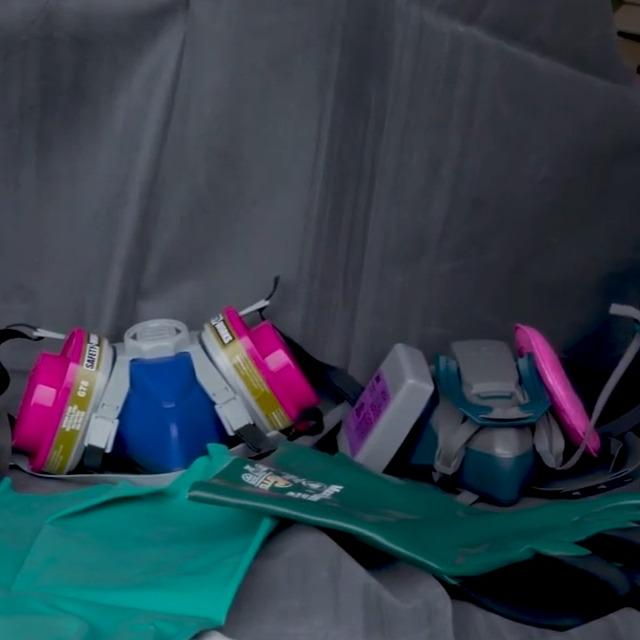Gloves: (190, 440, 640, 599), (0, 446, 278, 640), (0, 477, 189, 640), (354, 542, 640, 632)
Mask: (7, 304, 324, 475), (331, 319, 607, 504)
